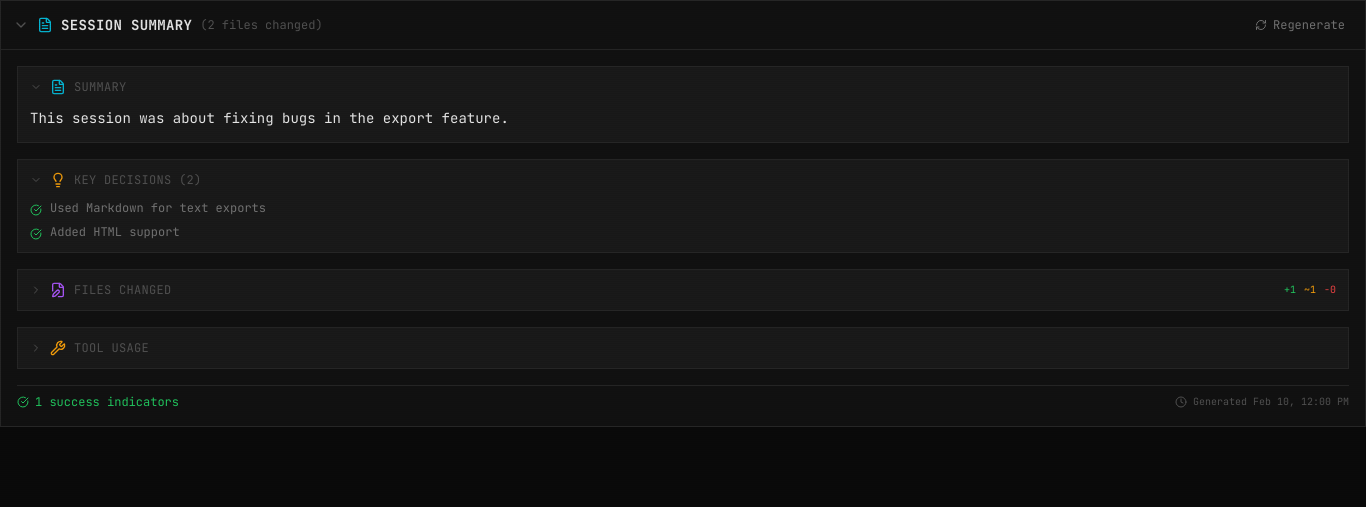
Test case: SummaryCard › toggles sections
Check: the text "This session was about fixing bugs in the export feature." is shown, box [30,109,509,127]
Note: Toggle Summary section
Click the button "Summary". click: [100, 87]
box: [18,67,1348,107]
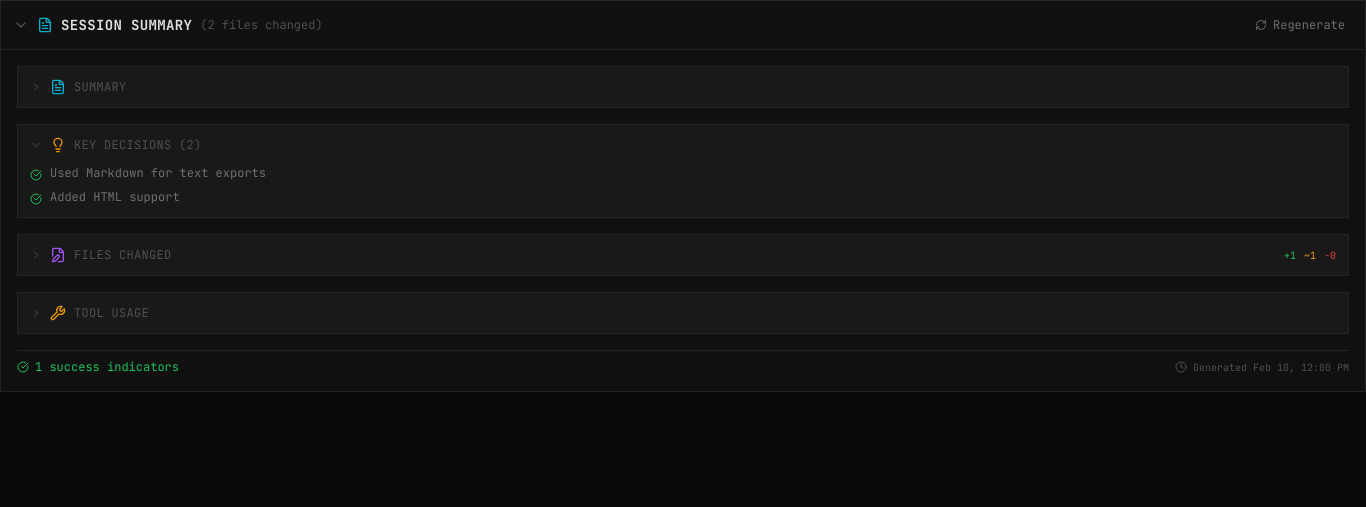
Check: the text "This session was about fixing bugs in the export feature." is gone
Note: Expand Files Changed section
Click the text "Files Changed". click: [123, 255]
box: [74,247,172,263]
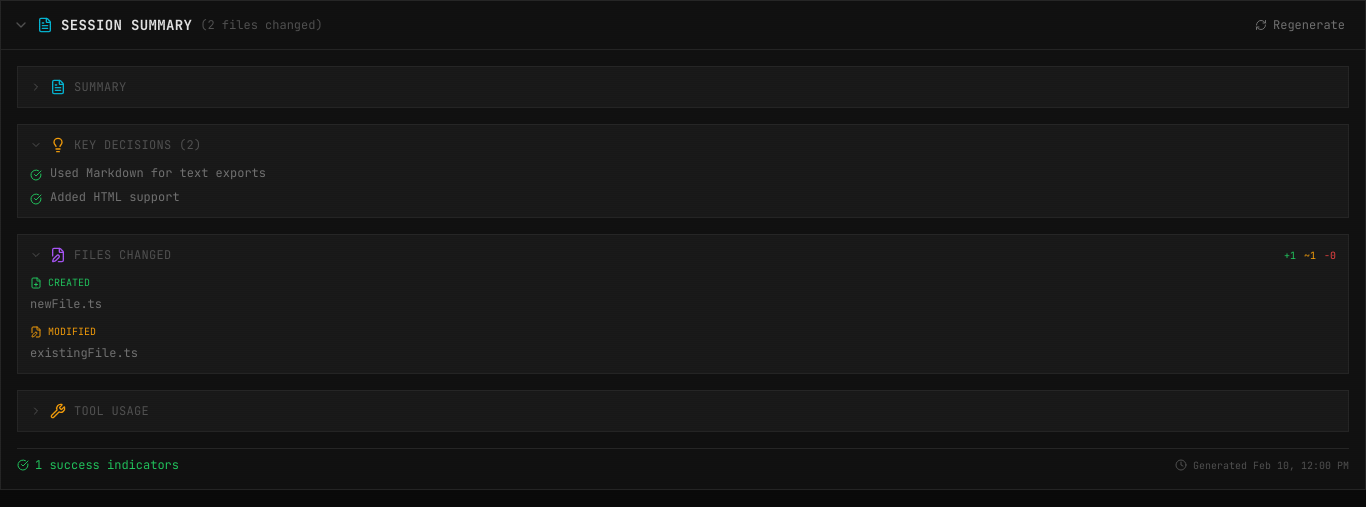
Check: the text "newFile.ts" is shown, box [30,296,102,312]
Check: the text "existingFile.ts" is shown, box [30,345,138,361]
